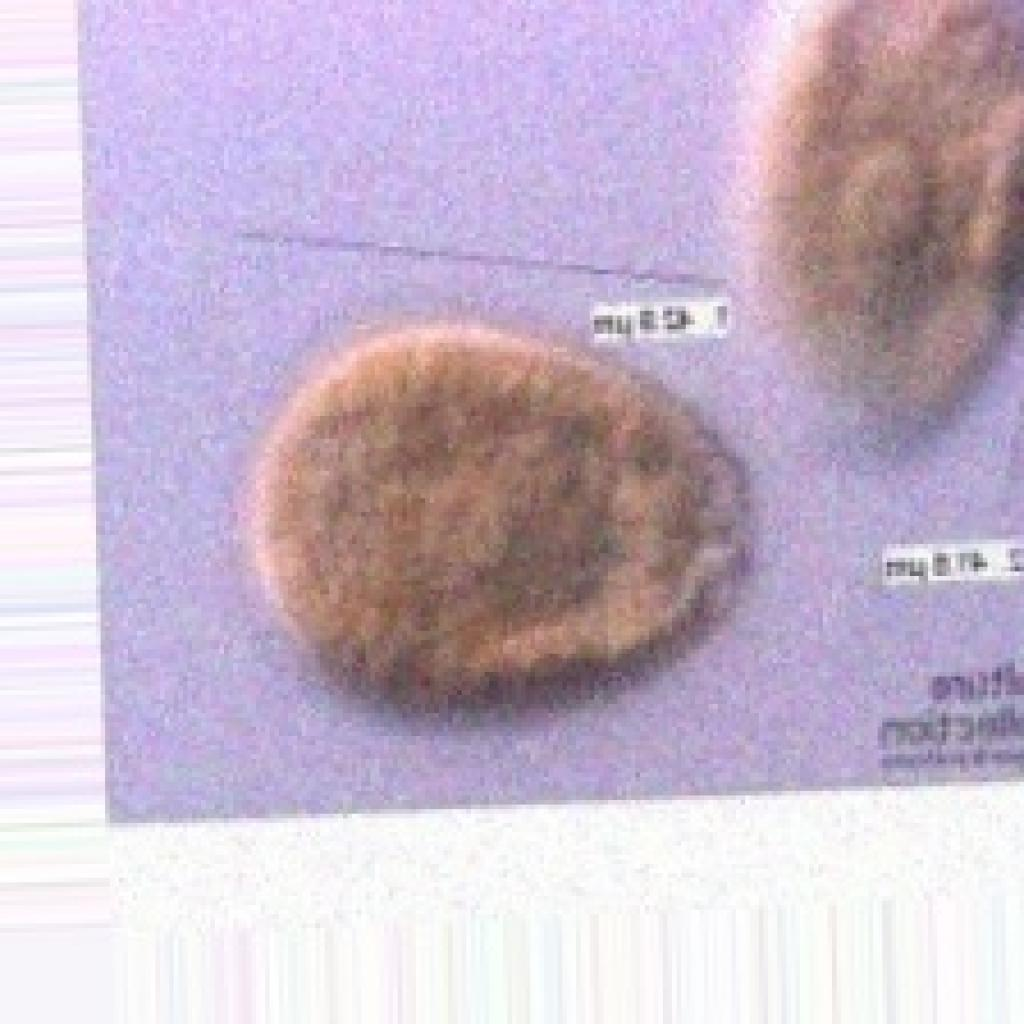Microalgae: (242, 315, 754, 718)
